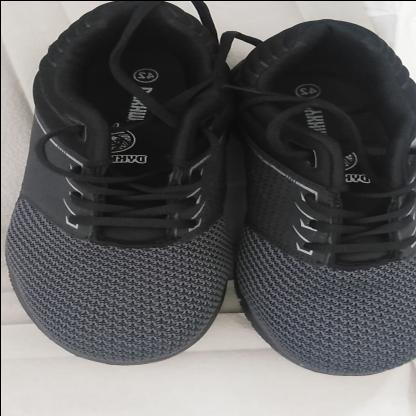safety-shoe: (4, 0, 416, 385)
